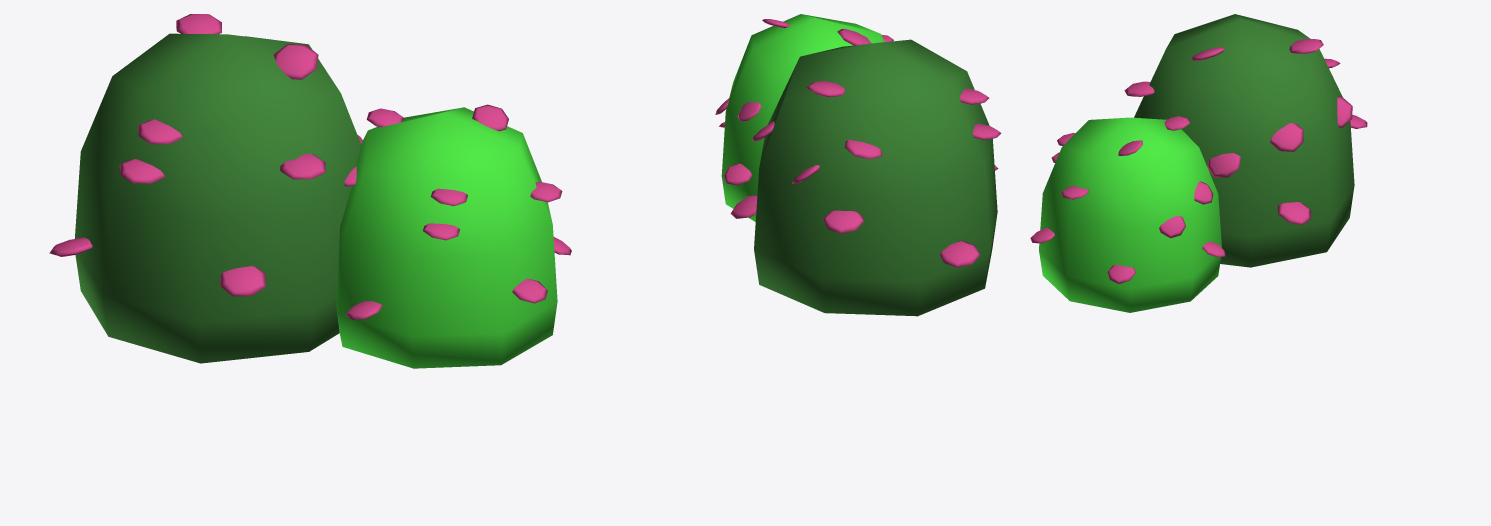
Rendered from Primavera.fbx.
3 renders of one model, left to right at view 1: azimuth 30°, elevation 25°; view 2: azimuth 150°, elevation 25°; view 3: azimuth 270°, elevation 25°, orthographic. The views are drawn at different scales.
Visible parts, largest first — view 1: Cube.042, Cube.041; view 2: Cube.042, Cube.041; view 3: Cube.042, Cube.041.
Boxes of the visible parts, x1,y1,x2,y2 form: Cube.042: [49, 14, 362, 363]; Cube.041: [336, 104, 571, 368]; Cube.042: [730, 28, 1001, 316]; Cube.041: [715, 14, 893, 221]; Cube.042: [1124, 14, 1367, 267]; Cube.041: [1030, 116, 1225, 312].
Size of the model in its own units: 368 by 457 by 459.
